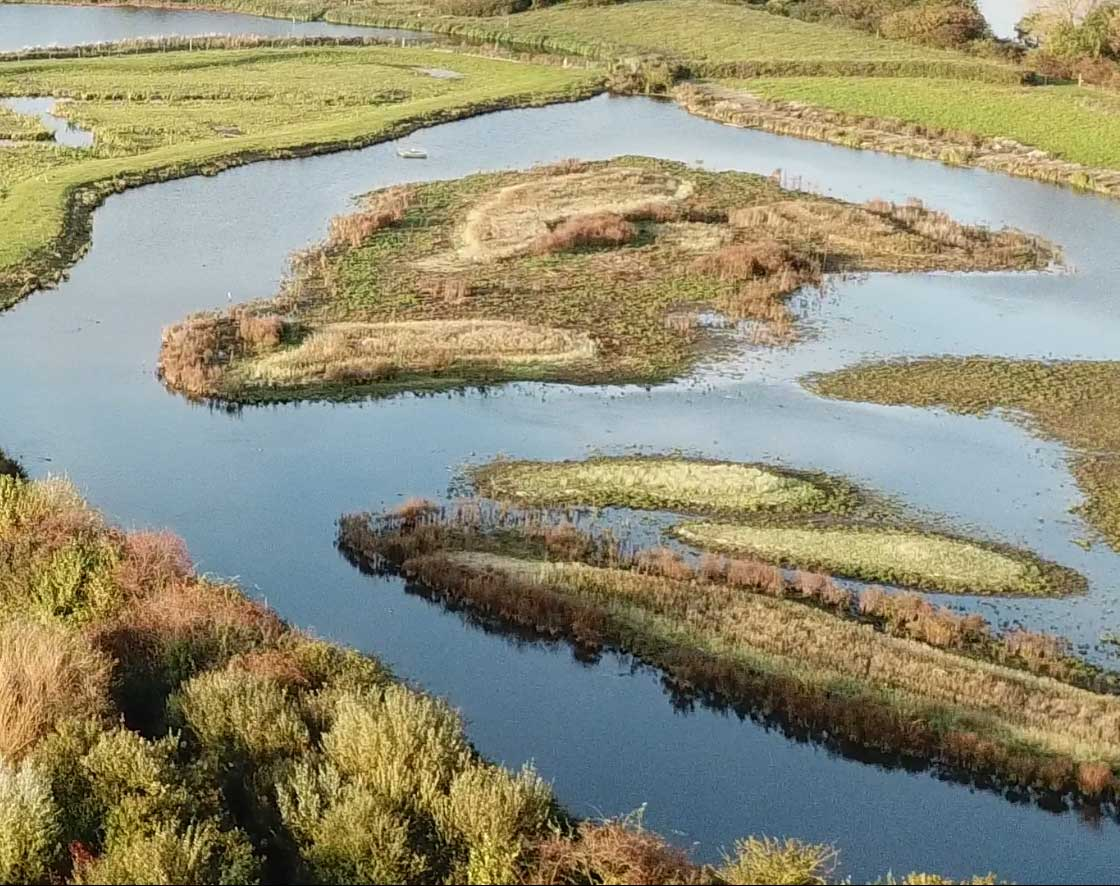water: (107, 411, 415, 484), (481, 663, 643, 762), (123, 202, 271, 276)
